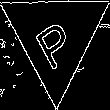P_NW: (30, 6, 81, 69)
